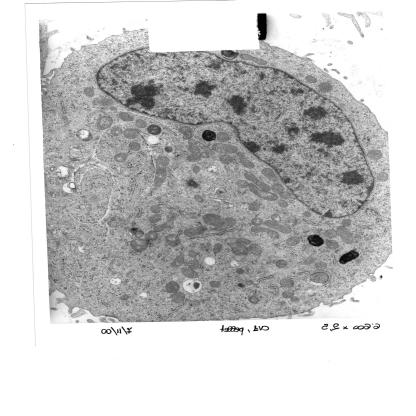mitochondria: (152, 156, 170, 188), (248, 183, 278, 201), (244, 172, 271, 191), (224, 238, 249, 256), (187, 139, 215, 154), (263, 220, 292, 234), (250, 226, 281, 238), (239, 53, 267, 66), (336, 226, 354, 245), (212, 217, 236, 231), (177, 125, 195, 140), (130, 238, 148, 253), (212, 143, 238, 153), (203, 213, 223, 226), (184, 226, 206, 237), (96, 116, 113, 130), (261, 168, 277, 182), (181, 267, 199, 279), (123, 128, 140, 140), (170, 255, 185, 268), (170, 291, 186, 303), (238, 158, 255, 169), (166, 233, 180, 246), (367, 149, 382, 161), (248, 244, 263, 256), (165, 281, 180, 293), (318, 82, 333, 93), (118, 112, 134, 122), (248, 200, 262, 211), (219, 154, 234, 164), (216, 132, 231, 142), (144, 231, 159, 241), (185, 145, 201, 154), (97, 98, 115, 106), (271, 183, 284, 194), (280, 278, 294, 288), (286, 236, 300, 246), (114, 152, 128, 162), (187, 259, 201, 269), (84, 86, 95, 98), (376, 172, 389, 182), (185, 154, 201, 162), (304, 75, 318, 84), (323, 229, 337, 238), (325, 240, 339, 249), (110, 127, 124, 136), (148, 214, 162, 223), (236, 179, 249, 188), (128, 142, 141, 151), (134, 119, 147, 128), (154, 224, 168, 232), (212, 243, 222, 254), (194, 193, 205, 202), (315, 262, 327, 270), (282, 290, 294, 298), (279, 191, 291, 199), (150, 205, 162, 213), (251, 218, 263, 226), (209, 280, 221, 288), (189, 299, 201, 307), (276, 200, 288, 207), (187, 250, 197, 258), (237, 238, 250, 244), (340, 219, 351, 226), (271, 214, 282, 221), (191, 166, 200, 174), (302, 211, 312, 218), (289, 296, 300, 302), (119, 294, 130, 300), (199, 152, 209, 158), (62, 114, 69, 122), (109, 106, 118, 112), (236, 268, 244, 274)
